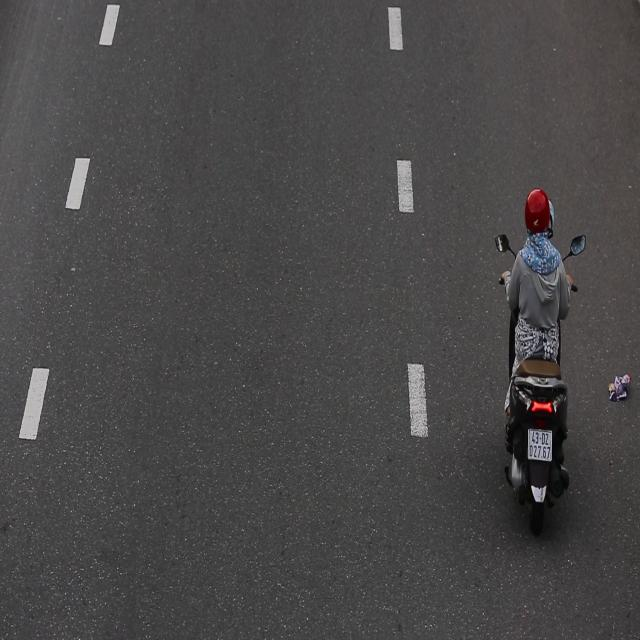motorbike: (492, 180, 589, 541)
